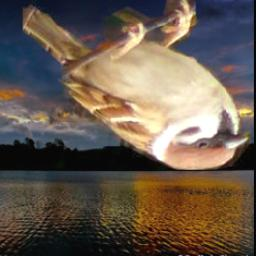Sparrow: (24, 0, 252, 171)
